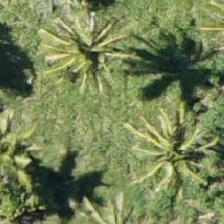coconut_tree: (30, 10, 120, 100), (126, 96, 216, 186)
